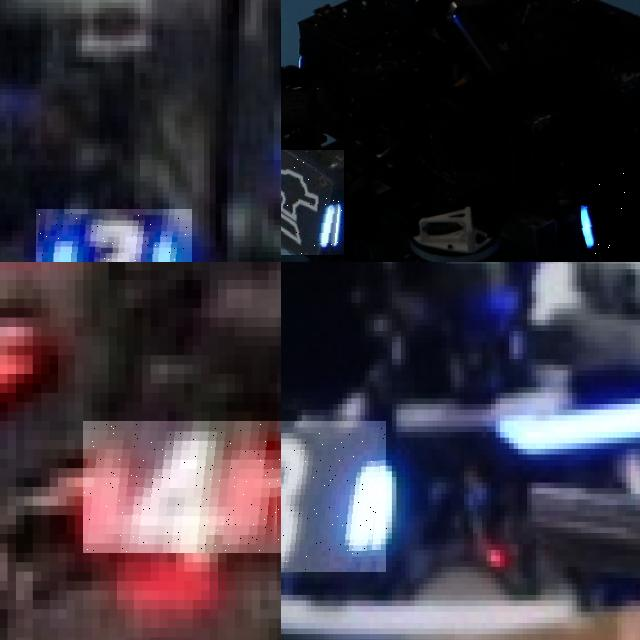B2: (35, 208, 192, 262)
B3: (281, 420, 387, 572)
Bs: (281, 150, 344, 255), (581, 162, 640, 258)
R4: (83, 421, 281, 553)
